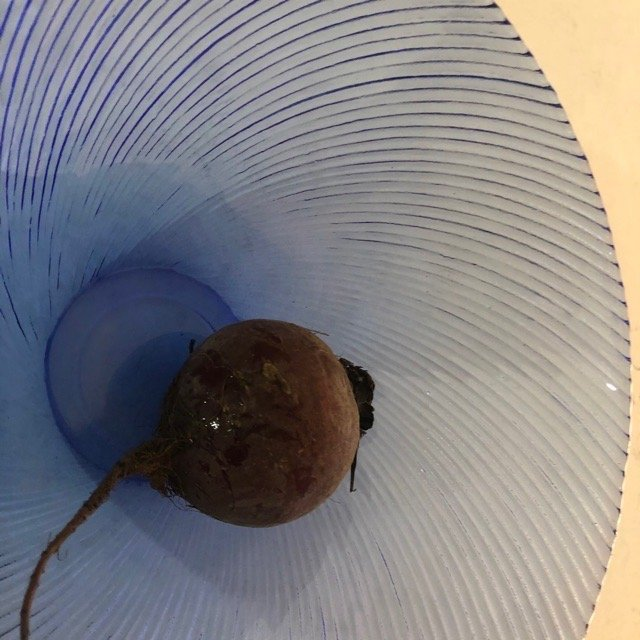beet: (21, 319, 376, 640)
